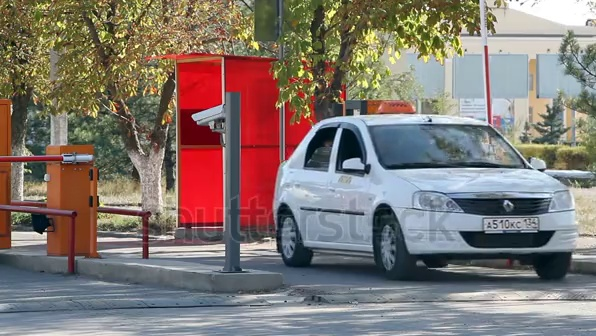licenseplate: (480, 217, 542, 237)
